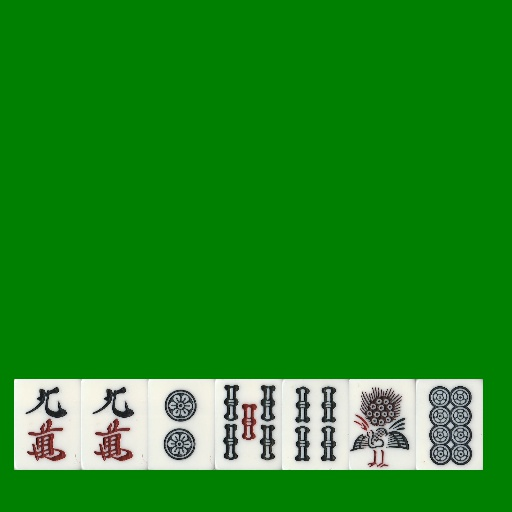1s: (349, 379, 416, 470)
2p: (148, 379, 215, 470)
4s: (282, 379, 349, 470)
5s: (215, 379, 282, 470)
8p: (416, 379, 483, 470)
9m: (14, 379, 81, 470), (81, 379, 148, 470)
